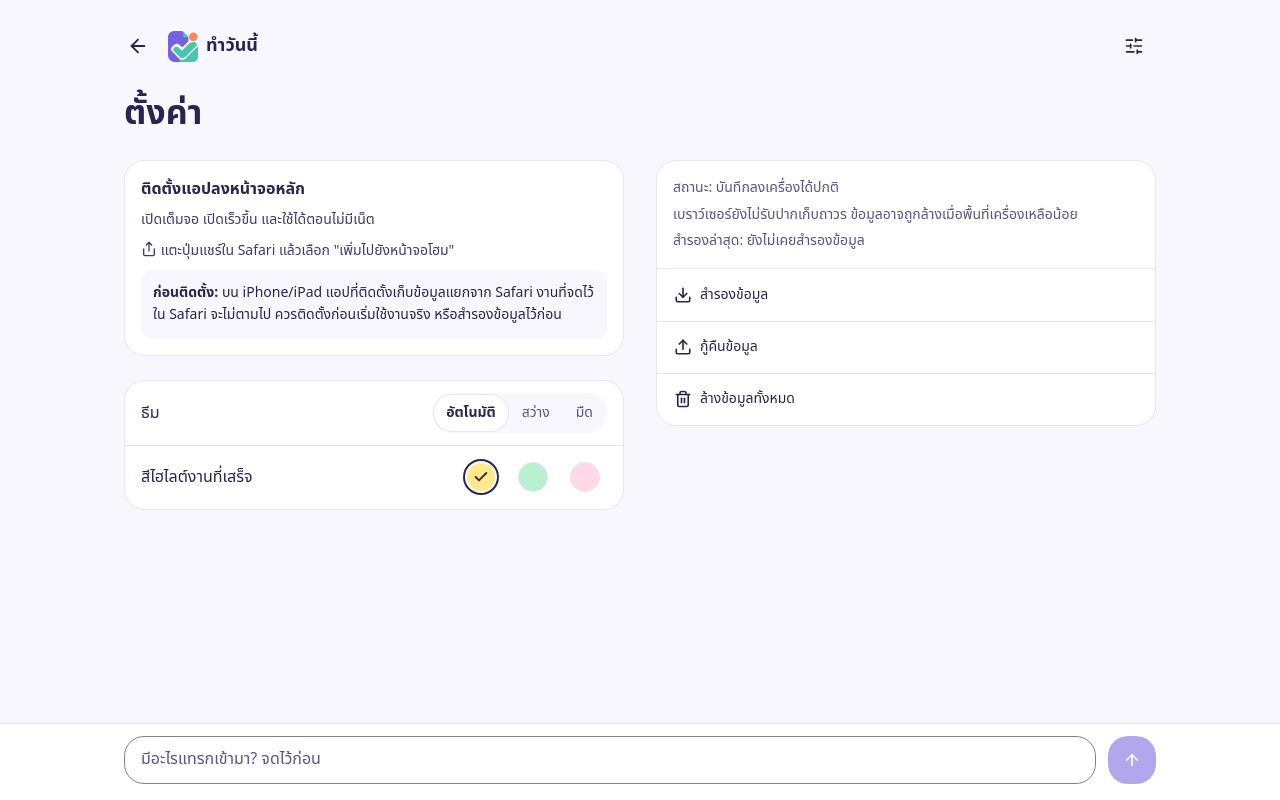
Test: สำรองข้อมูล (เฟส 6) › iPhone: ใช้แผงแชร์ (บันทึกลงไฟล์ได้) ไม่ใช้ดาวน์โหลดตรง
The image size is (1280, 800).
Click the button "สำรองข้อมูล" at (734, 294), box [657,269,1155,321]
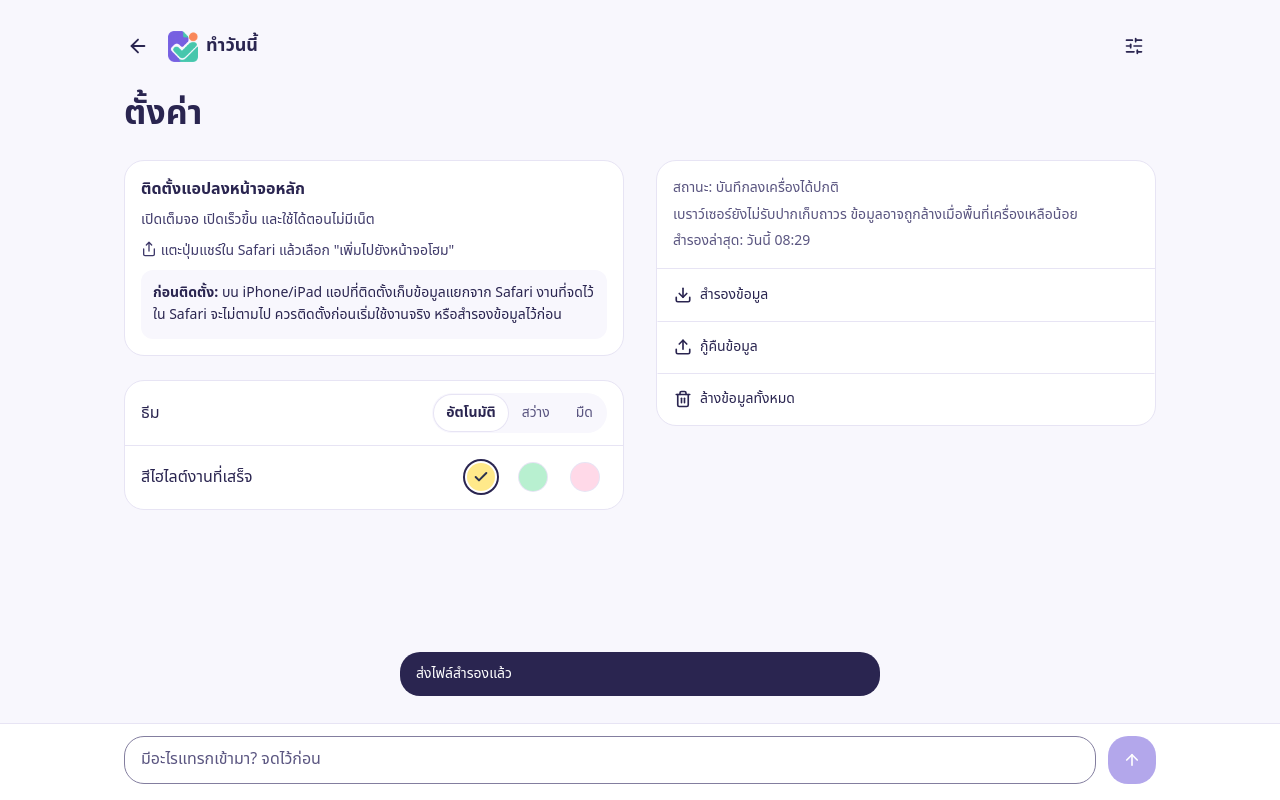
Expected: the text "ส่งไฟล์สำรองแล้ว" is shown, [416,663,512,684]
